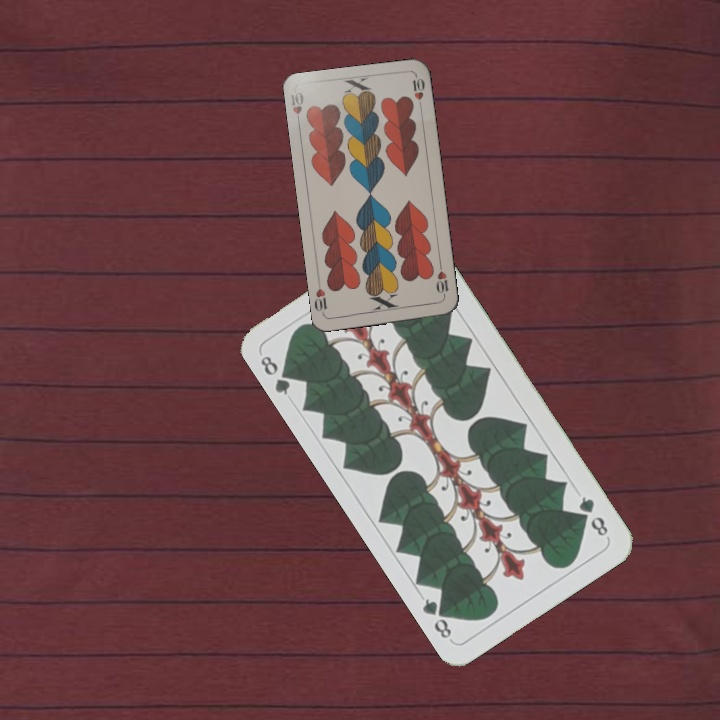G8: (256, 351, 298, 398), (574, 492, 611, 541)
H10: (432, 260, 451, 300), (287, 88, 306, 128)
